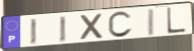C: (107, 10, 134, 39)
I: (146, 7, 156, 37), (29, 17, 39, 46), (58, 15, 68, 44)
L: (165, 6, 187, 35)
X: (79, 12, 105, 42)
